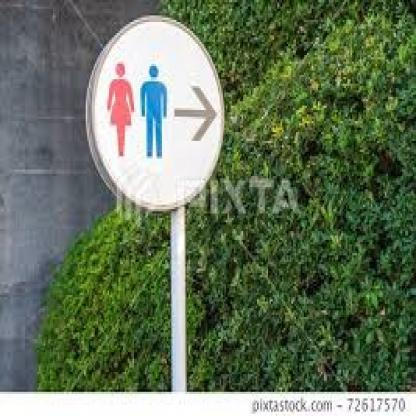toilet: (102, 55, 174, 164)
